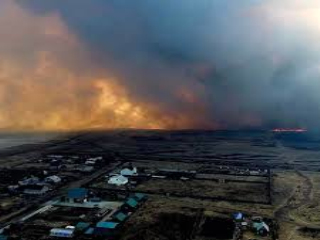fire: (63, 80, 216, 132)
